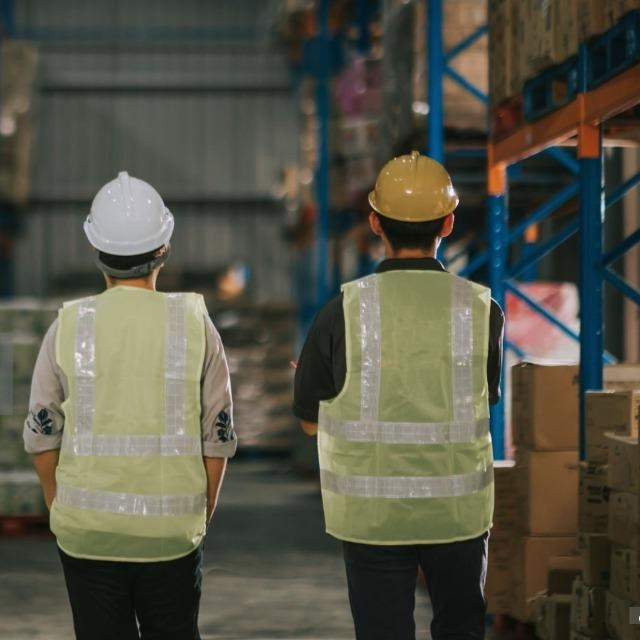Con_Casco: (80, 169, 176, 278), (365, 150, 459, 258)
Con_Chaleco: (311, 269, 491, 543), (41, 283, 211, 565)
